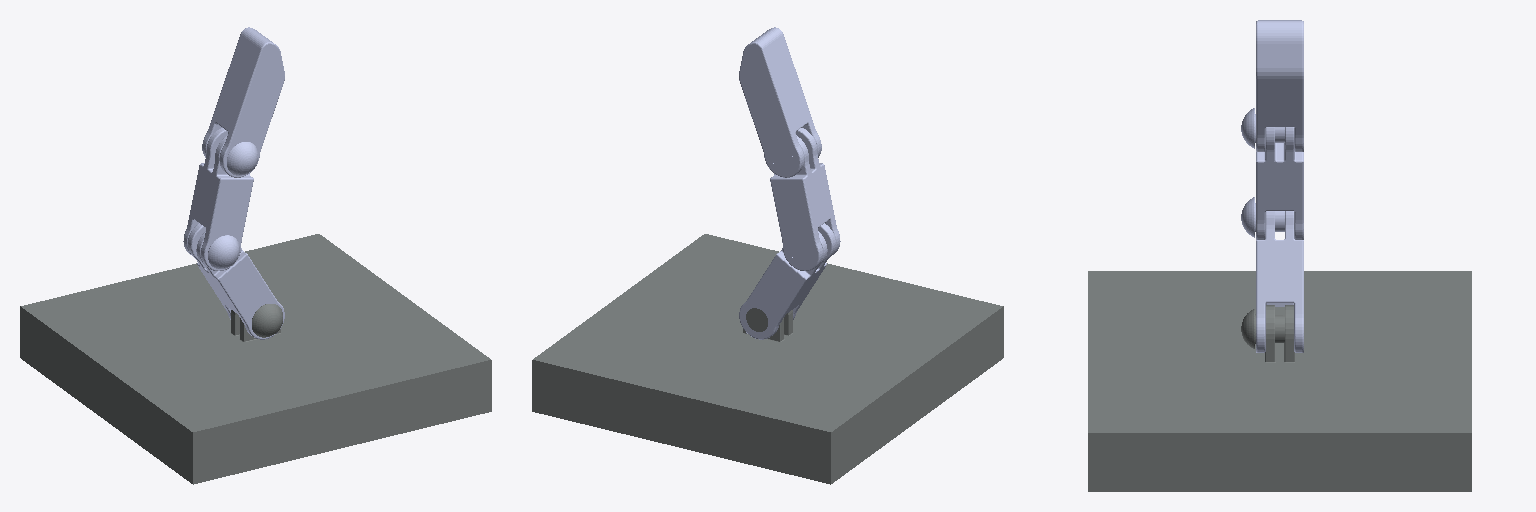
robot.urdf — finger:
<?xml version="1.0" encoding="utf-8"?>
<!-- This URDF was automatically created by SolidWorks to URDF Exporter! Originally created by [author] ([email redacted]) 
     Commit Version: 1.6.0-4-g7f85cfe  Build Version: 1.6.7995.38578
     For more information, please see http://wiki.ros.org/sw_urdf_exporter -->
<robot
  name="finger">
  <link
    name="base_link">
    <inertial>
      <origin
        xyz="4.16197290784397E-18 -0.00993974748653739 0.0300014235592228"
        rpy="0 0 0" />
      <mass
        value="2.25446767524272" />
      <inertia
        ixx="0.00277268478631531"
        ixy="5.06396775501893E-20"
        ixz="7.58027467186751E-20"
        iyy="0.00539162126185719"
        iyz="1.40890952655998E-20"
        izz="0.00277273425968255" />
    </inertial>
    <visual>
      <origin
        xyz="0 0 0"
        rpy="0 0 0" />
      <geometry>
        <mesh
          filename="package://finger/meshes/base_link.STL" />
      </geometry>
      <material
        name="">
        <color
          rgba="0.529411764705882 0.549019607843137 0.549019607843137 1" />
      </material>
    </visual>
    <collision>
      <origin
        xyz="0 0 0"
        rpy="0 0 0" />
      <geometry>
        <mesh
          filename="package://finger/meshes/base_link.STL" />
      </geometry>
    </collision>
  </link>
  <link
    name="link_1">
    <inertial>
      <origin
        xyz="0.0207393229920771 -0.0079559655758786 2.6628005356244E-16"
        rpy="0 0 0" />
      <mass
        value="0.00703861962695465" />
      <inertia
        ixx="2.62020669315562E-07"
        ixy="-1.37212946526911E-22"
        ixz="-9.26442286059392E-23"
        iyy="7.16921529606444E-07"
        iyz="-1.1772685729731E-23"
        izz="7.63643073331604E-07" />
    </inertial>
    <visual>
      <origin
        xyz="0 0 0"
        rpy="0 0 0" />
      <geometry>
        <mesh
          filename="package://finger/meshes/link_1.STL" />
      </geometry>
      <material
        name="">
        <color
          rgba="0.792156862745098 0.819607843137255 0.933333333333333 1" />
      </material>
    </visual>
    <collision>
      <origin
        xyz="0 0 0"
        rpy="0 0 0" />
      <geometry>
        <mesh
          filename="package://finger/meshes/link_1.STL" />
      </geometry>
    </collision>
  </link>
  <joint
    name="joint_1"
    type="revolute">
    <origin
      xyz="0 -0.0225 0.008"
      rpy="3.1416 -1.0462 3.1416" />
    <parent
      link="base_link" />
    <child
      link="link_1" />
    <axis
      xyz="0 0 1" />
    <limit
      lower="-1.57"
      upper="1.57"
      effort="10"
      velocity="100" />
  </joint>
  <link
    name="link_2">
    <inertial>
      <origin
        xyz="0.0207393229920767 0.00795596557587861 -1.68962066560141E-15"
        rpy="0 0 0" />
      <mass
        value="0.00703861962695465" />
      <inertia
        ixx="2.62020669315562E-07"
        ixy="2.5086774228277E-22"
        ixz="-3.97046694025453E-23"
        iyy="7.16921529606444E-07"
        iyz="1.06410424434208E-23"
        izz="7.63643073331604E-07" />
    </inertial>
    <visual>
      <origin
        xyz="0 0 0"
        rpy="0 0 0" />
      <geometry>
        <mesh
          filename="package://finger/meshes/link_2.STL" />
      </geometry>
      <material
        name="">
        <color
          rgba="0.792156862745098 0.819607843137255 0.933333333333333 1" />
      </material>
    </visual>
    <collision>
      <origin
        xyz="0 0 0"
        rpy="0 0 0" />
      <geometry>
        <mesh
          filename="package://finger/meshes/link_2.STL" />
      </geometry>
    </collision>
  </link>
  <joint
    name="joint_2"
    type="revolute">
    <origin
      xyz="0.035 0 0"
      rpy="-3.1416 0.741 0" />
    <parent
      link="link_1" />
    <child
      link="link_2" />
    <axis
      xyz="0 0 1" />
    <limit
      lower="-1.57"
      upper="1.57"
      effort="10"
      velocity="100" />
  </joint>
  <link
    name="end_link">
    <inertial>
      <origin
        xyz="0.0214441157580334 -0.00749999999899945 0.000363766379080151"
        rpy="0 0 0" />
      <mass
        value="0.00752238112648173" />
      <inertia
        ixx="2.74880881878481E-07"
        ixy="-1.23037035124277E-16"
        ixz="-4.60531164771404E-08"
        iyy="1.12605308893331E-06"
        iyz="-2.44263405116846E-17"
        izz="1.16112796100964E-06" />
    </inertial>
    <visual>
      <origin
        xyz="0 0 0"
        rpy="0 0 0" />
      <geometry>
        <mesh
          filename="package://finger/meshes/end_link.STL" />
      </geometry>
      <material
        name="">
        <color
          rgba="0.792156862745098 0.819607843137255 0.933333333333333 1" />
      </material>
    </visual>
    <collision>
      <origin
        xyz="0 0 0"
        rpy="0 0 0" />
      <geometry>
        <mesh
          filename="package://finger/meshes/end_link.STL" />
      </geometry>
    </collision>
  </link>
  <joint
    name="end_joint"
    type="revolute">
    <origin
      xyz="0.035 0 0"
      rpy="3.1416 -0.15223 0" />
    <parent
      link="link_2" />
    <child
      link="end_link" />
    <axis
      xyz="0 0 1" />
    <limit
      lower="-1.57"
      upper="1.57"
      effort="10"
      velocity="100" />
  </joint>
</robot>

--- Render facts (derived) ---
The picture shows the robot from 3 angles, left to right: view 1: azimuth 30°, elevation 25°; view 2: azimuth 150°, elevation 25°; view 3: azimuth 270°, elevation 25°; orthographic projection.
Robot: finger — 4 links, 3 joints (3 revolute); root link base_link; default pose: all joints at 0.
Visible links, largest first — view 1: base_link, end_link, link_2, link_1; view 2: base_link, end_link, link_2, link_1; view 3: base_link, end_link, link_1, link_2.
Boxes of the visible links, x1=… form: base_link: x1=20, y1=234, x2=491, y2=484; end_link: x1=202, y1=27, x2=284, y2=177; link_2: x1=183, y1=128, x2=257, y2=270; link_1: x1=188, y1=223, x2=284, y2=339; base_link: x1=532, y1=234, x2=1003, y2=484; end_link: x1=739, y1=27, x2=821, y2=177; link_2: x1=770, y1=128, x2=840, y2=270; link_1: x1=739, y1=223, x2=835, y2=339; base_link: x1=1088, y1=271, x2=1471, y2=491; end_link: x1=1256, y1=20, x2=1303, y2=151; link_1: x1=1241, y1=197, x2=1303, y2=352; link_2: x1=1241, y1=108, x2=1303, y2=239.
Size in the robot's own frame: 0.12 by 0.12 by 0.1343 metres.
Meshes: 4 distinct files referenced, 4 mesh visuals loaded (4 binary STL).